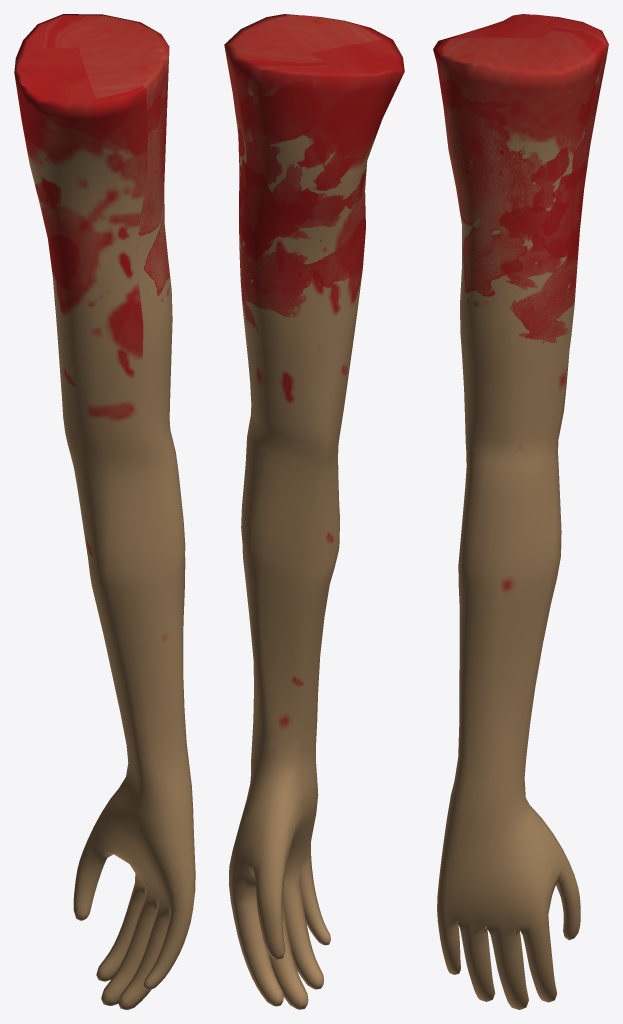
The model's file is hand.fbx.
3 views of the same model, side by side, from view 1: azimuth 30°, elevation 25°; view 2: azimuth 150°, elevation 25°; view 3: azimuth 270°, elevation 25° (orthographic).
Visible parts, largest first — view 1: hand; view 2: hand; view 3: hand.
Part boxes in pixels (bbox=[...]): hand: bbox=[14, 14, 195, 1009]; hand: bbox=[224, 14, 404, 1009]; hand: bbox=[433, 14, 608, 1009].
Size of the model in its own units: 1.53 by 9.1 by 1.5.
1 material, 1 textured.
